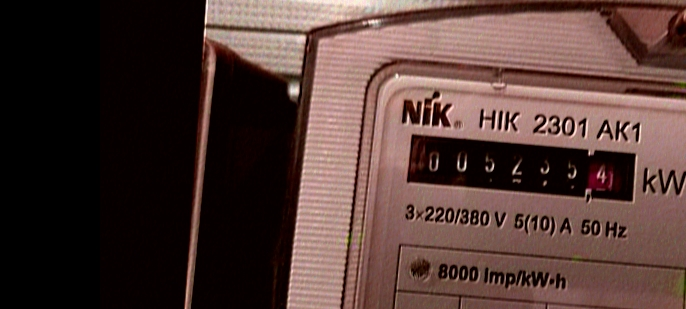0: (426, 148, 444, 175), (455, 148, 471, 174)
2: (510, 150, 526, 176)
3: (538, 150, 554, 176)
4: (595, 158, 611, 185)
5: (565, 153, 582, 181), (482, 149, 499, 176)
screen: (398, 125, 650, 211)
